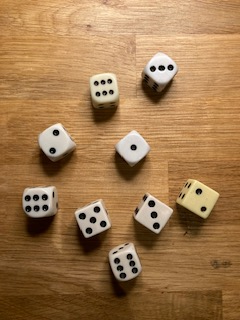five: (73, 199, 111, 239)
one: (114, 129, 151, 168)
six: (108, 241, 145, 284), (22, 185, 59, 218), (89, 72, 120, 109)
three: (133, 193, 174, 236), (142, 52, 179, 94)
two: (175, 178, 220, 220), (37, 121, 78, 163)
